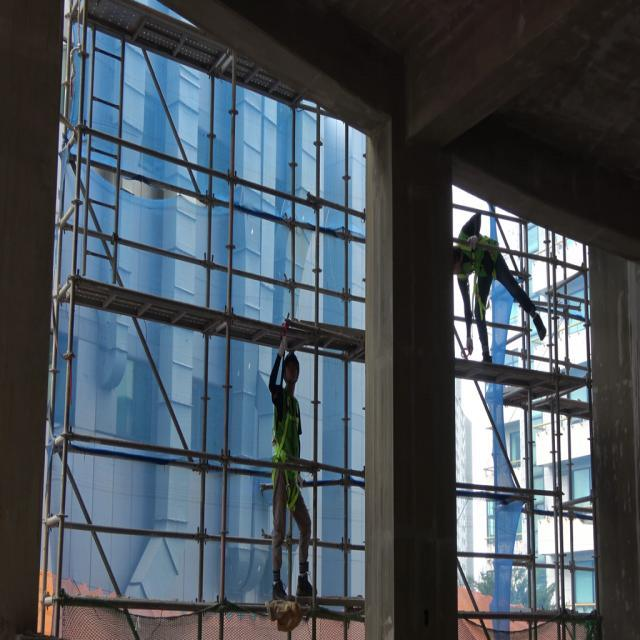belt: (456, 227, 499, 312), (273, 392, 302, 504)
